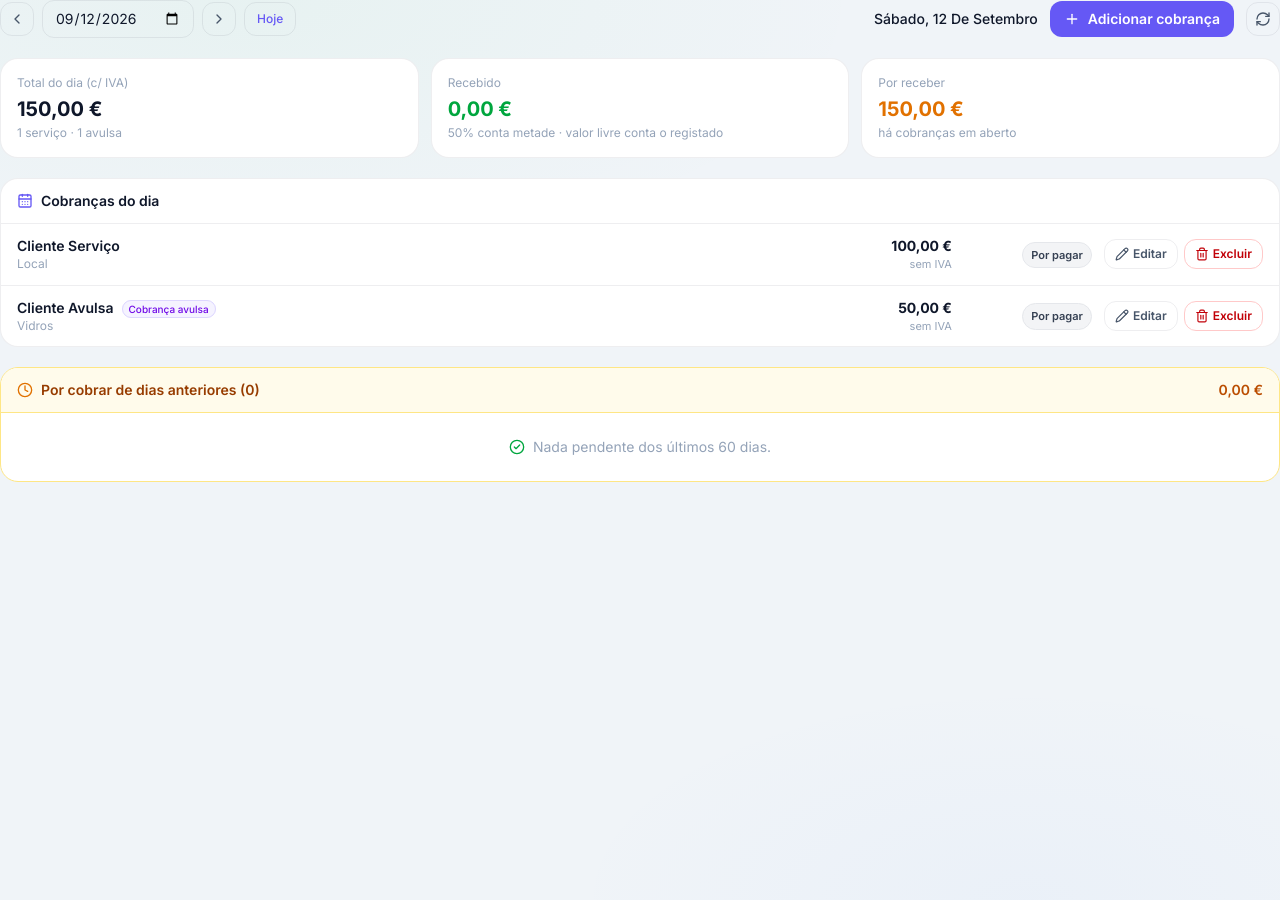
Test: o editor — recebimento pela RPC do tipo certo › uma recusa da base aparece no editor
Click the button "Editar" in the row of "Cobrança avulsa": [1141, 316] box [1104,301,1178,331]
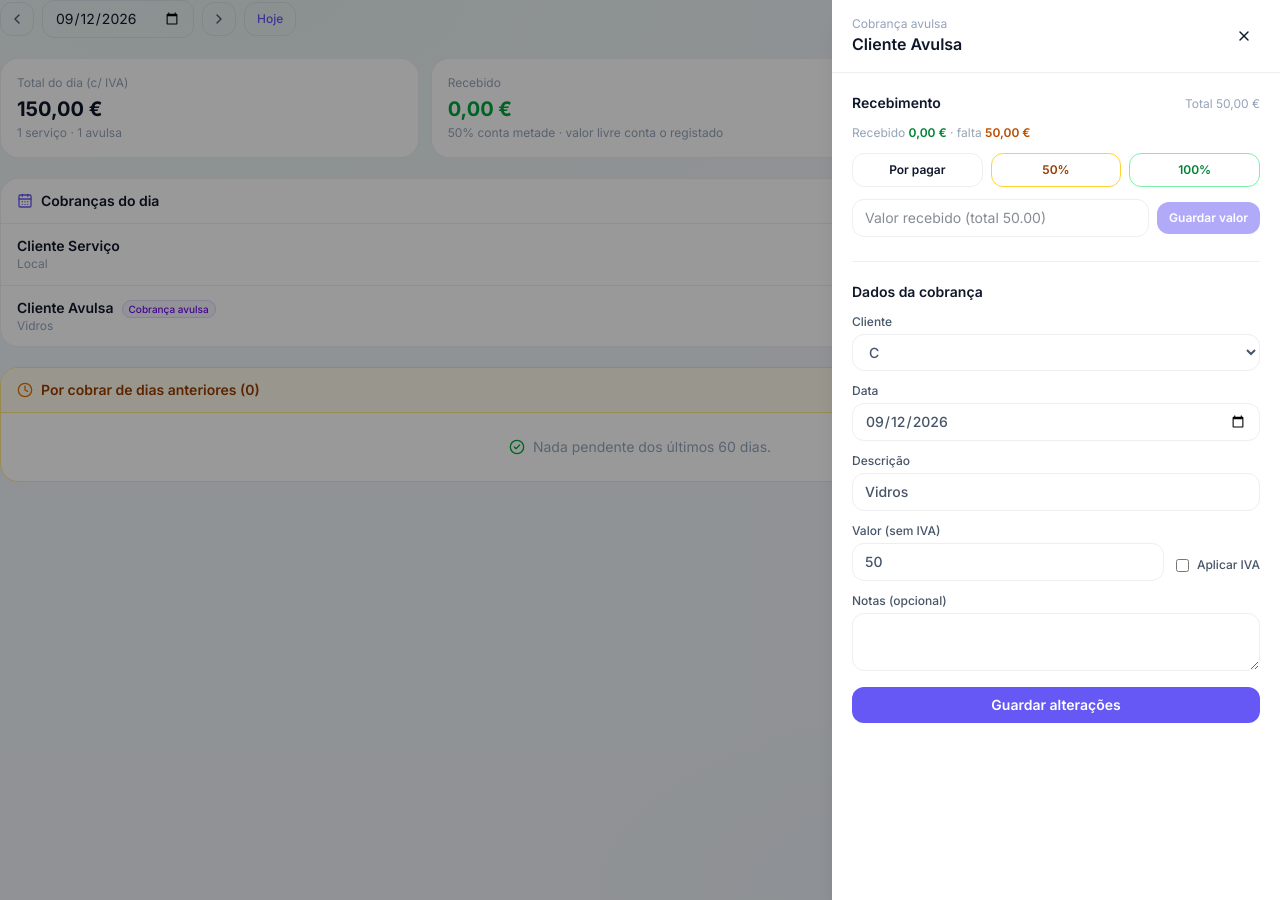
Click the button "100%": [1195, 170] box [1129,153,1260,187]
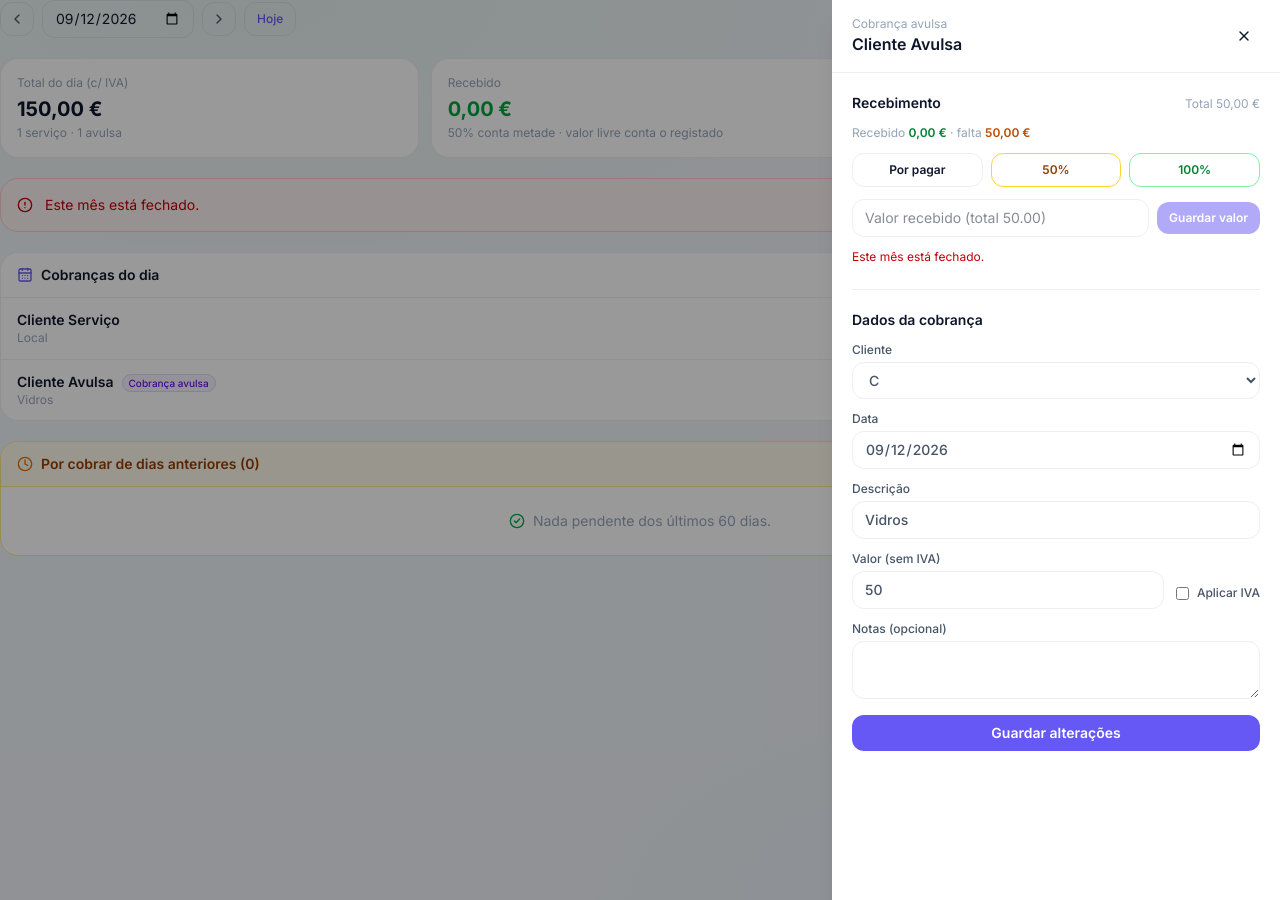
Expected: the dialog shows "Este mês está fechado.", [852,249,984,264]
